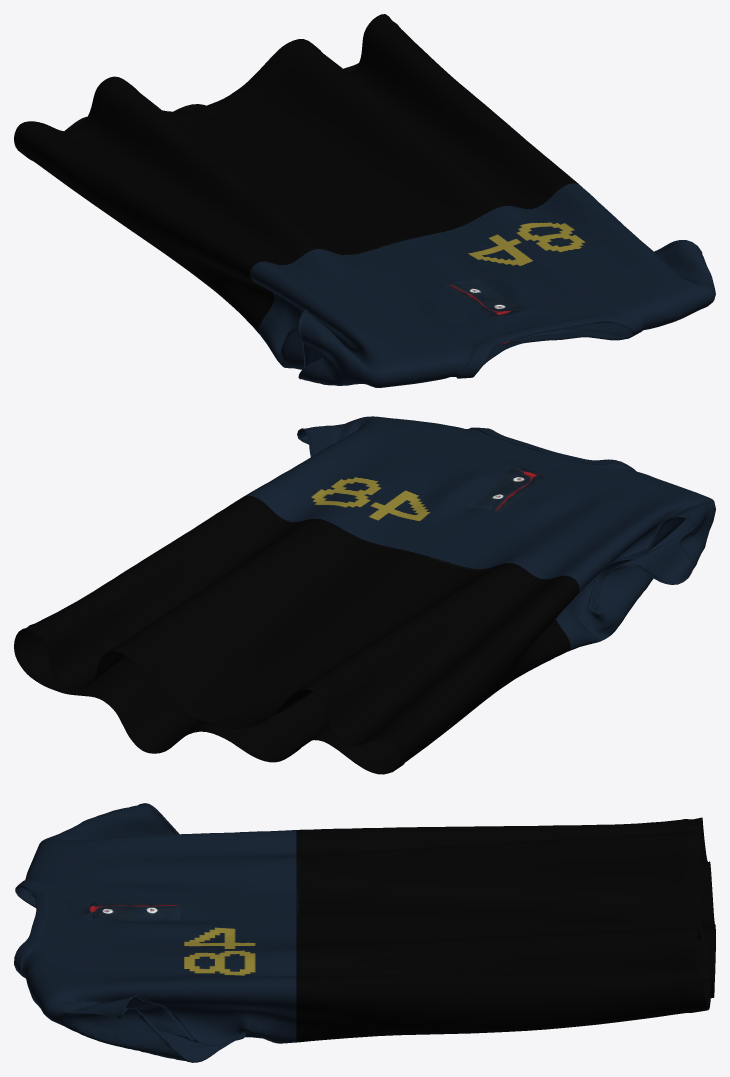
Rendered from TNSC_Tshirt_Ts1_2.obj.
3 renders of one model, top to bottom at view 1: azimuth 30°, elevation 25°; view 2: azimuth 150°, elevation 25°; view 3: azimuth 270°, elevation 25°, orthographic. The views are drawn at different scales.
Size of the model in its own units: 16.15 by 4.09 by 24.91.
Materials: 1 (1 with a texture image).
